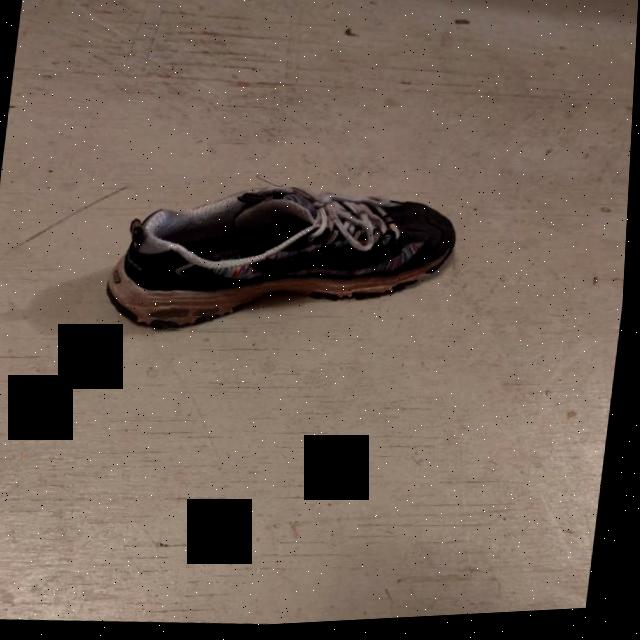shoe: (101, 171, 465, 356)
